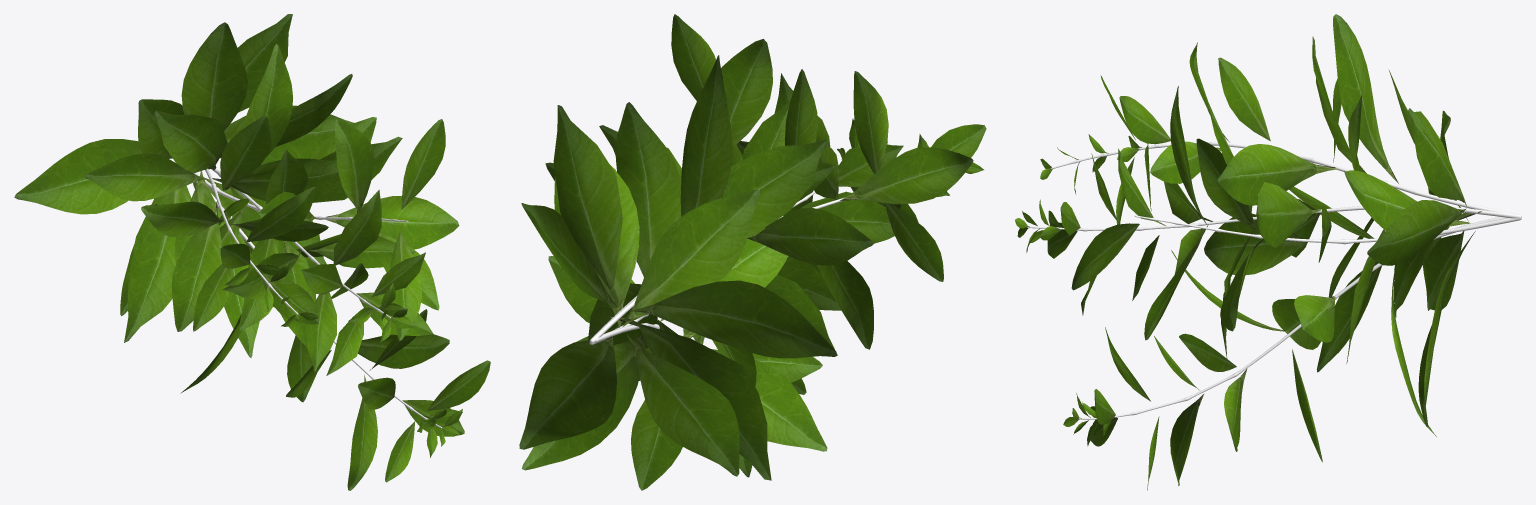
File: plant.glb
The picture shows the model from 3 angles, left to right: view 1: azimuth 30°, elevation 25°; view 2: azimuth 150°, elevation 25°; view 3: azimuth 270°, elevation 25°; orthographic projection. The views are drawn at different scales.
Visible parts, largest first — view 1: Plane.004, Plane, Plane.003, Plane.001, Plane.002, Plane.005, Plane.006; view 2: Plane.004, Plane.003, Plane, Plane.001; view 3: Plane.004, Plane.001, Plane.003, Plane, Cube.002, Cube.001, Cube.003, Cube, Plane.002, Plane.005, Plane.006.
Part boxes in pixels (left/top/right/bottom): Plane.004: left=14, top=22, right=353, bottom=331; Plane: left=124, top=14, right=433, bottom=375; Plane.003: left=138, top=44, right=459, bottom=357; Plane.001: left=120, top=74, right=490, bottom=490; Plane.002: left=348, top=283, right=415, bottom=342; Plane.005: left=225, top=262, right=318, bottom=326; Plane.006: left=417, top=408, right=462, bottom=457; Plane.004: left=521, top=55, right=986, bottom=386; Plane.003: left=519, top=14, right=841, bottom=449; Plane: left=553, top=73, right=918, bottom=480; Plane.001: left=522, top=165, right=827, bottom=490; Plane.004: left=1100, top=14, right=1466, bottom=297; Plane.001: left=1090, top=170, right=1470, bottom=490; Plane.003: left=1071, top=69, right=1475, bottom=427; Plane: left=1047, top=36, right=1481, bottom=363; Cube.002: left=1051, top=142, right=1521, bottom=216; Cube.001: left=1134, top=215, right=1521, bottom=244; Cube.003: left=1081, top=217, right=1508, bottom=419; Cube: left=1030, top=206, right=1521, bottom=231; Plane.002: left=1015, top=199, right=1062, bottom=252; Plane.005: left=1040, top=134, right=1141, bottom=194; Plane.006: left=1063, top=393, right=1114, bottom=446.
Size of the model in its own units: 0.3335 by 0.3983 by 0.4099.
Materials: 3 (2 with a texture image).
